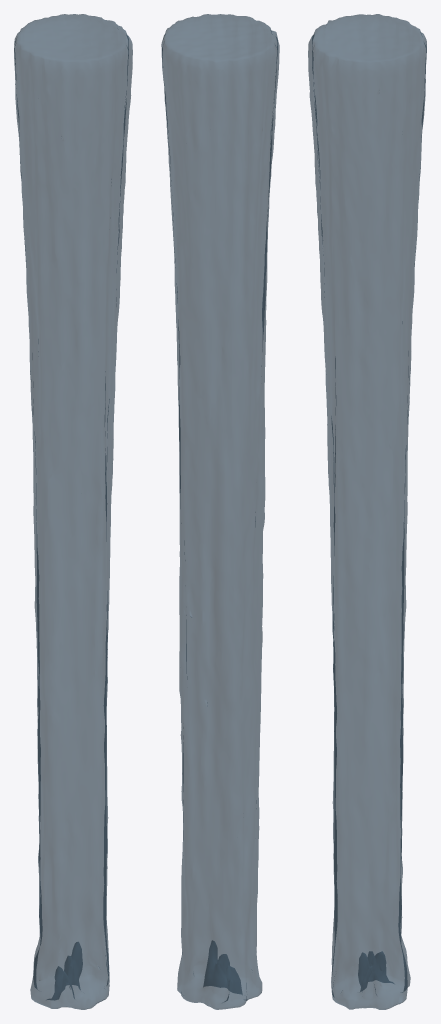
File: water_0.dae
3 renders of one model, left to right at view 1: azimuth 90°, elevation 25°; view 2: azimuth 150°, elevation 25°; view 3: azimuth 270°, elevation 25°, orthographic.
Visible parts, largest first — view 1: Water_stream_001; view 2: Water_stream_001; view 3: Water_stream_001.
Boxes of the visible parts, x1,y1,x2,y2 form: Water_stream_001: [14, 14, 132, 1009]; Water_stream_001: [161, 14, 279, 1009]; Water_stream_001: [308, 14, 426, 1009].
Bounding box in the file's own units: 0.0636 × 0.0637 × 0.5663.
